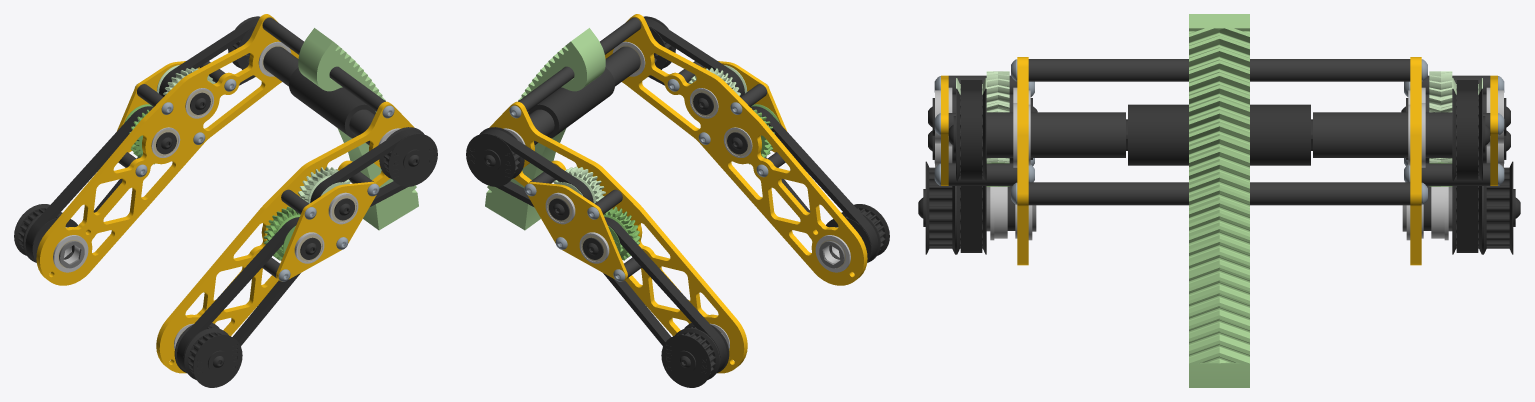
3 renders of one model, left to right at view 1: azimuth 30°, elevation 25°; view 2: azimuth 150°, elevation 25°; view 3: azimuth 270°, elevation 25°, orthographic. The views are drawn at different scales.
Visible parts, largest first — view 1: C-LAC02_188_6061AL_2_26 (×2), 22t Custom HTD 5mm Pulley (0.375" Wide, 1/2" Hex Bore w/ TTB (×5), 60T 5M 9mm Wide Belt (×2), Spur gear (261 teeth), C-LAC03_125_6061AL_2_26 (×2), 45T 5M 9mm Wide Belt (×2), 1" Solid Urethane Wheel (45A, 1" Wide, 1/2" Hex Bore) (×3), Spur gear (28 teeth) (×4), #10-32 x 0.25" L Shaft End Screw (Steel, Black Oxide) (×6), 3/8" Rounded Hex (10.25mm) ID Bearing (0.875" OD, 0.281" WD, (×4), 0.196" ID Custom Spacer (0.375" OD,6.25" L), 1" Long?1/2" Hex?Spacer (+3 smaller); view 2: C-LAC02_188_6061AL_2_26 (×2), 22t Custom HTD 5mm Pulley (0.375" Wide, 1/2" Hex Bore w/ TTB (×5), 60T 5M 9mm Wide Belt (×2), Spur gear (261 teeth), C-LAC03_125_6061AL_2_26 (×2), 45T 5M 9mm Wide Belt (×2), 1" Solid Urethane Wheel (45A, 1" Wide, 1/2" Hex Bore) (×3), Spur gear (28 teeth) (×4), #10-32 x 0.25" L Shaft End Screw (Steel, Black Oxide) (×6), 3/8" Rounded Hex (10.25mm) ID Bearing (0.875" OD, 0.281" WD, (×4), 0.196" ID Custom Spacer (0.375" OD,6.25" L), 1" Long?1/2" Hex?Spacer (+3 smaller); view 3: Spur gear (261 teeth), 0.196" ID Custom Spacer (0.375" OD,6.25" L) (×2), 1" Solid Urethane Wheel (45A, 1" Wide, 1/2" Hex Bore) (×2), 22t Custom HTD 5mm Pulley (0.375" Wide, 1/2" Hex Bore w/ TTB (×6), 1" Long?1/2" Hex?Spacer (×2), C-LAC02_188_6061AL_2_26 (×2), 45T 5M 9mm Wide Belt (×2), 60T 5M 9mm Wide Belt (×2), 1/2" Rounded Hex (13.75mm) ID Bearing (1" OD, 0.313" WD, Shi (×4), 1/2" Long?1/2" Hex?Spacer (×2), Spur gear (28 teeth) (×2), Spacer (Configurable) (×2) (+2 smaller).
Part boxes in pixels (x1=…): C-LAC02_188_6061AL_2_26 (×2): x1=36, y1=14, x2=414, y2=373; 22t Custom HTD 5mm Pulley (0.375" Wide, 1/2" Hex Bore w/ TTB (×5): x1=14, y1=16, x2=437, y2=387; 60T 5M 9mm Wide Belt (×2): x1=25, y1=106, x2=300, y2=372; Spur gear (261 teeth): x1=298, y1=28, x2=418, y2=230; C-LAC03_125_6061AL_2_26 (×2): x1=117, y1=61, x2=377, y2=280; 45T 5M 9mm Wide Belt (×2): x1=159, y1=18, x2=423, y2=206; 1" Solid Urethane Wheel (45A, 1" Wide, 1/2" Hex Bore) (×3): x1=289, y1=67, x2=375, y2=138; Spur gear (28 teeth) (×4): x1=124, y1=65, x2=350, y2=260; #10-32 x 0.25" L Shaft End Screw (Steel, Black Oxide) (×6): x1=156, y1=92, x2=423, y2=372; 3/8" Rounded Hex (10.25mm) ID Bearing (0.875" OD, 0.281" WD, (×4): x1=151, y1=88, x2=358, y2=263; 0.196" ID Custom Spacer (0.375" OD,6.25" L): x1=262, y1=17, x2=385, y2=111; 1" Long?1/2" Hex?Spacer: x1=263, y1=46, x2=298, y2=82; C-LAC02_188_6061AL_2_26 (×2): x1=489, y1=14, x2=867, y2=373; 22t Custom HTD 5mm Pulley (0.375" Wide, 1/2" Hex Bore w/ TTB (×5): x1=466, y1=16, x2=889, y2=387; 60T 5M 9mm Wide Belt (×2): x1=603, y1=106, x2=878, y2=372; Spur gear (261 teeth): x1=485, y1=28, x2=605, y2=230; C-LAC03_125_6061AL_2_26 (×2): x1=526, y1=61, x2=786, y2=280; 45T 5M 9mm Wide Belt (×2): x1=480, y1=18, x2=744, y2=206; 1" Solid Urethane Wheel (45A, 1" Wide, 1/2" Hex Bore) (×3): x1=528, y1=67, x2=614, y2=138; Spur gear (28 teeth) (×4): x1=553, y1=65, x2=779, y2=260; #10-32 x 0.25" L Shaft End Screw (Steel, Black Oxide) (×6): x1=480, y1=92, x2=747, y2=372; 3/8" Rounded Hex (10.25mm) ID Bearing (0.875" OD, 0.281" WD, (×4): x1=545, y1=88, x2=752, y2=263; 0.196" ID Custom Spacer (0.375" OD,6.25" L): x1=518, y1=17, x2=641, y2=111; 1" Long?1/2" Hex?Spacer: x1=605, y1=46, x2=640, y2=82; Spur gear (261 teeth): x1=1189, y1=14, x2=1249, y2=387; 0.196" ID Custom Spacer (0.375" OD,6.25" L) (×2): x1=1028, y1=59, x2=1410, y2=205; 1" Solid Urethane Wheel (45A, 1" Wide, 1/2" Hex Bore) (×2): x1=1128, y1=104, x2=1310, y2=165; 22t Custom HTD 5mm Pulley (0.375" Wide, 1/2" Hex Bore w/ TTB (×6): x1=925, y1=88, x2=1513, y2=254; 1" Long?1/2" Hex?Spacer (×2): x1=1030, y1=112, x2=1408, y2=157; C-LAC02_188_6061AL_2_26 (×2): x1=1017, y1=57, x2=1421, y2=265; 45T 5M 9mm Wide Belt (×2): x1=960, y1=80, x2=1478, y2=179; 60T 5M 9mm Wide Belt (×2): x1=960, y1=186, x2=1478, y2=252; 1/2" Rounded Hex (13.75mm) ID Bearing (1" OD, 0.313" WD, Shi (×4): x1=990, y1=103, x2=1448, y2=240; 1/2" Long?1/2" Hex?Spacer (×2): x1=1091, y1=112, x2=1347, y2=157; Spur gear (28 teeth) (×2): x1=956, y1=71, x2=1482, y2=162; Spacer (Configurable) (×2): x1=948, y1=163, x2=1490, y2=185.
Bounding box in the file's own units: 0.2455 × 0.1847 × 0.2505.
